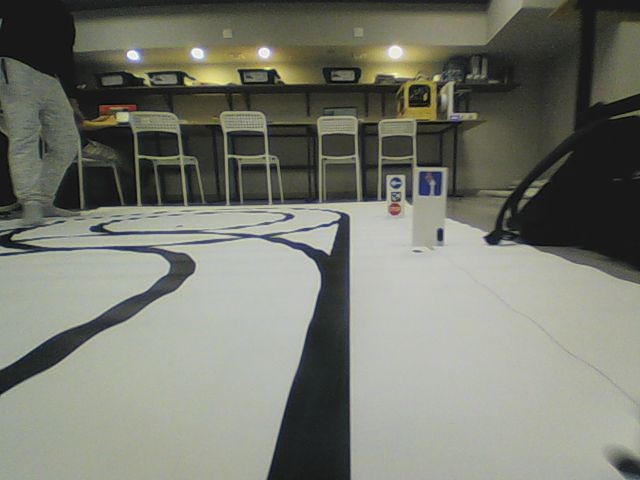priority_movement: (417, 169, 443, 198)
